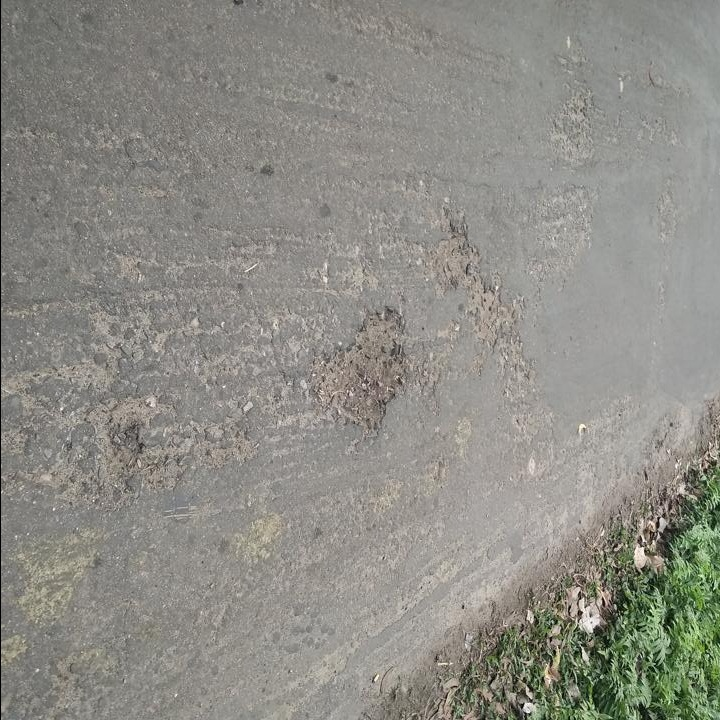pothole: (314, 301, 418, 435), (432, 224, 519, 346), (101, 421, 145, 480)
